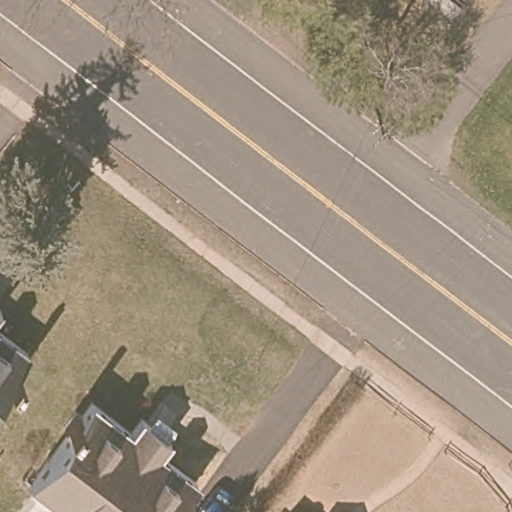DT: (373, 108, 395, 150)
